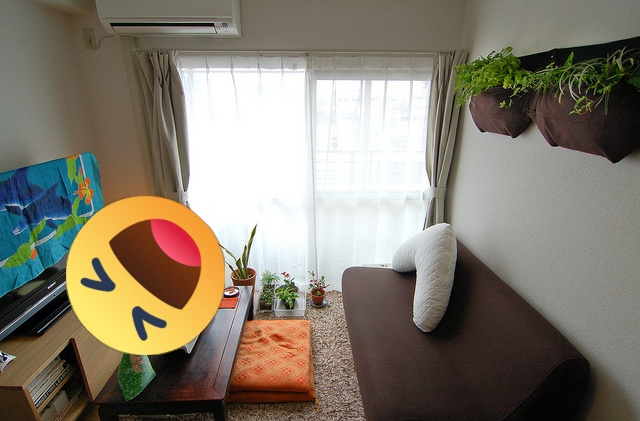haha: (66, 196, 225, 355)
